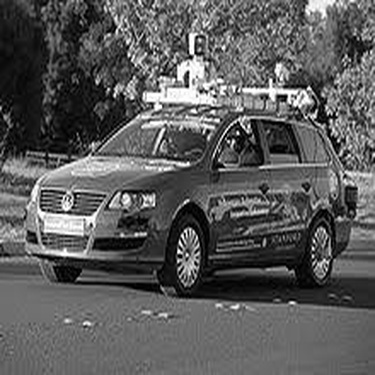car: (8, 94, 359, 301)
